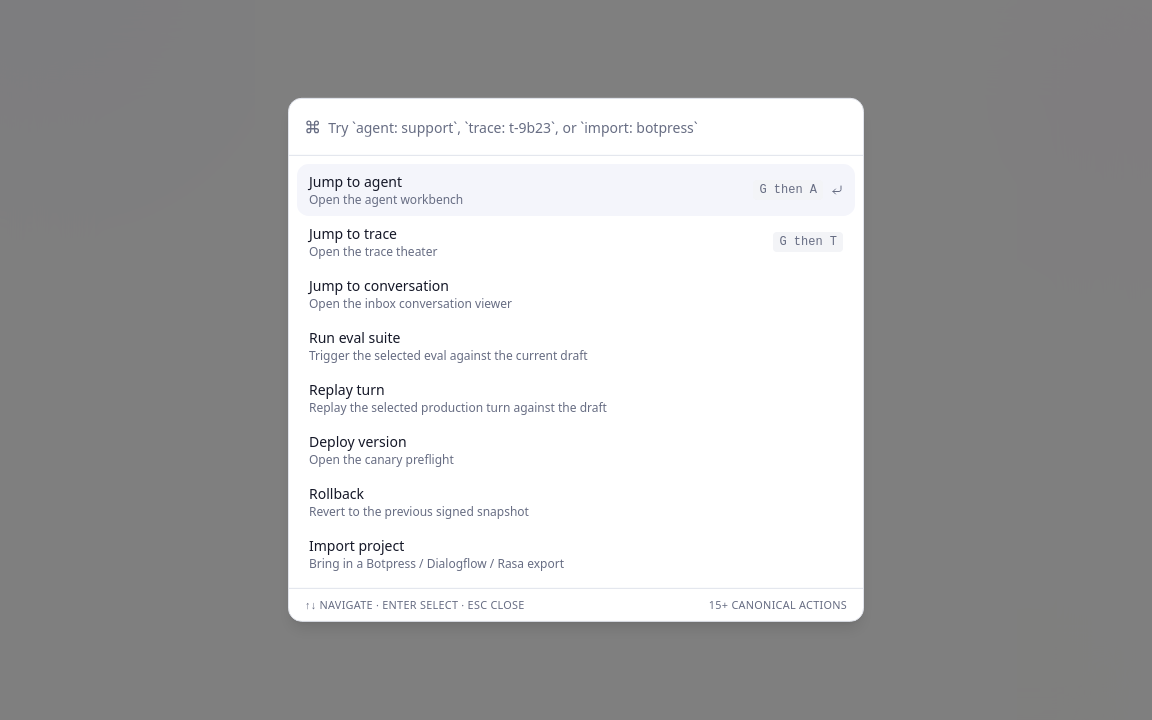
Test case: CommandPalette › highlights the typed prefix and filters the candidate set
Type "trace: refund" into the field with test id "command-input". click: [588, 127]
box: x1=328 y1=111 x2=847 y2=143
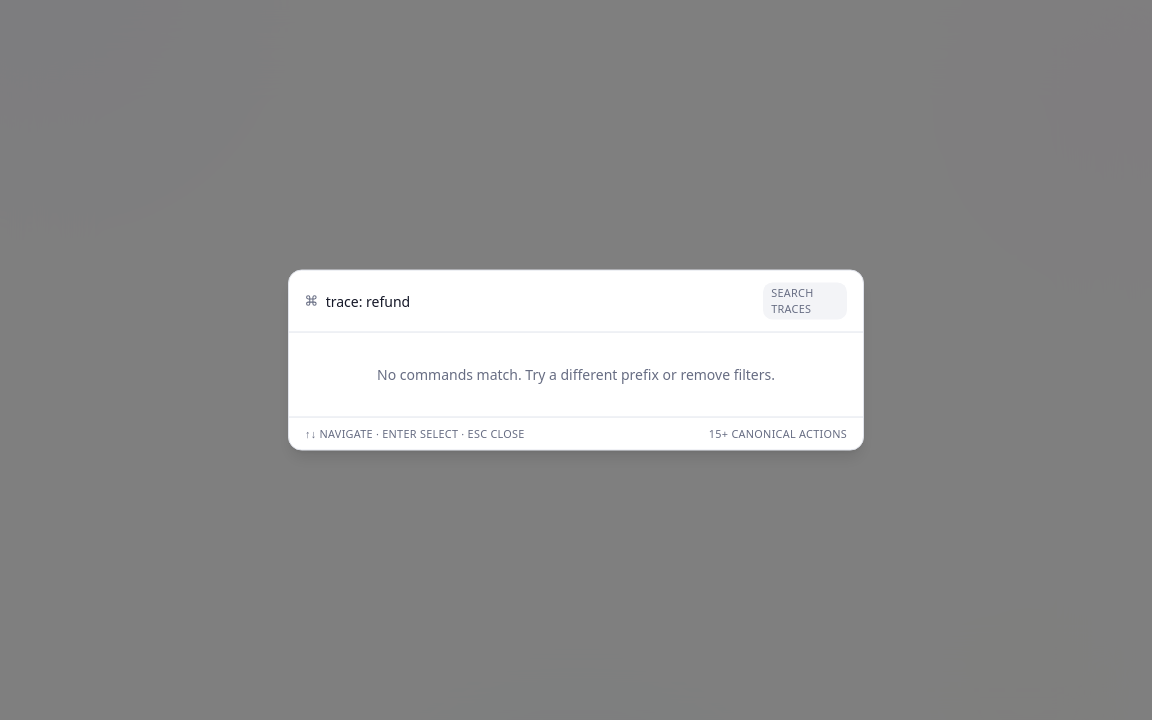
Check: the text "Search traces" is shown, box x1=763 y1=282 x2=847 y2=319
Check: the button with test id "command-item-cmd_import_project" is gone
